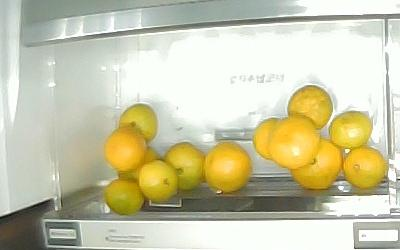tangerine: (272, 115, 320, 170), (203, 140, 252, 193), (292, 139, 342, 189), (287, 86, 333, 129), (163, 142, 204, 190), (104, 128, 147, 171), (342, 146, 385, 189), (140, 160, 178, 203), (330, 111, 374, 148), (119, 104, 159, 143), (104, 180, 144, 216), (255, 119, 284, 160)
tangerine_vinyl: (117, 146, 161, 183)
